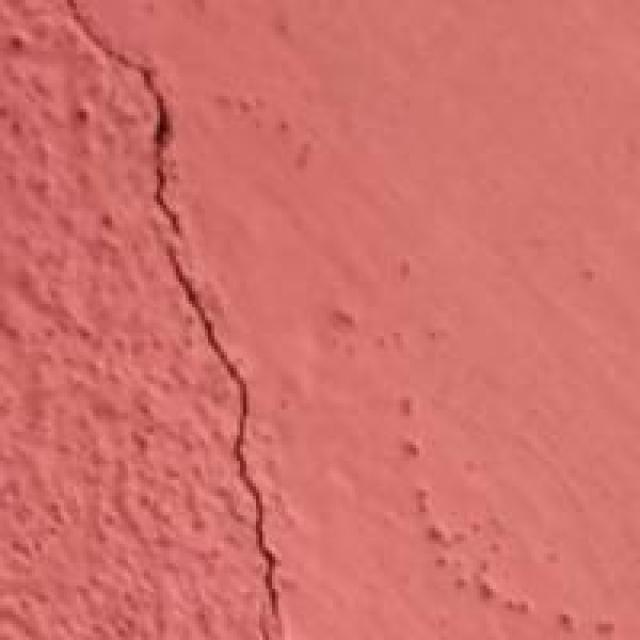Crack: (70, 3, 349, 637)
